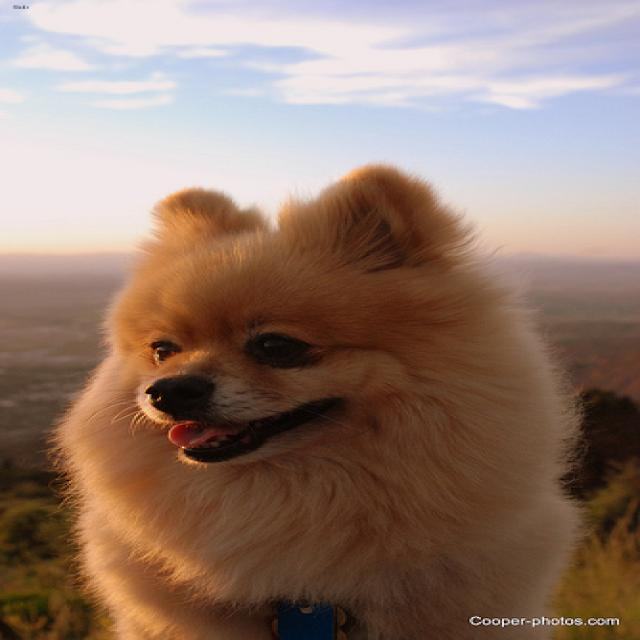dog-pomeranian: (40, 156, 600, 637)
